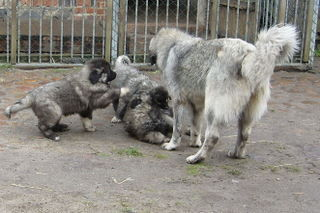cau_ovcharka: (146, 23, 299, 164), (2, 58, 129, 140), (110, 54, 171, 122), (123, 97, 173, 144)
